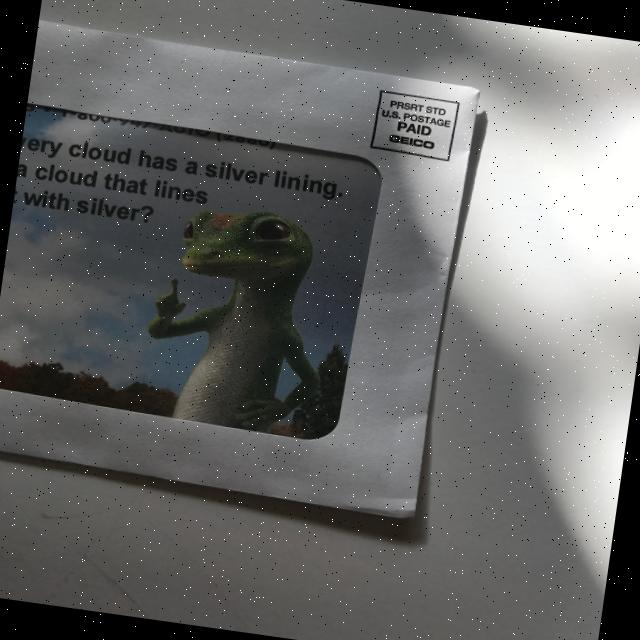paper: (0, 20, 482, 521)
